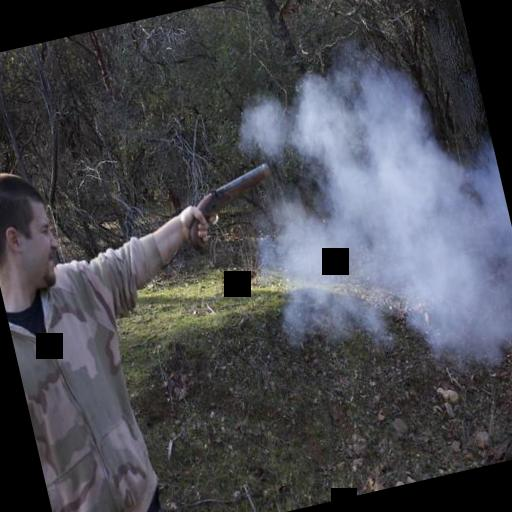Handgun: (169, 154, 284, 256)
